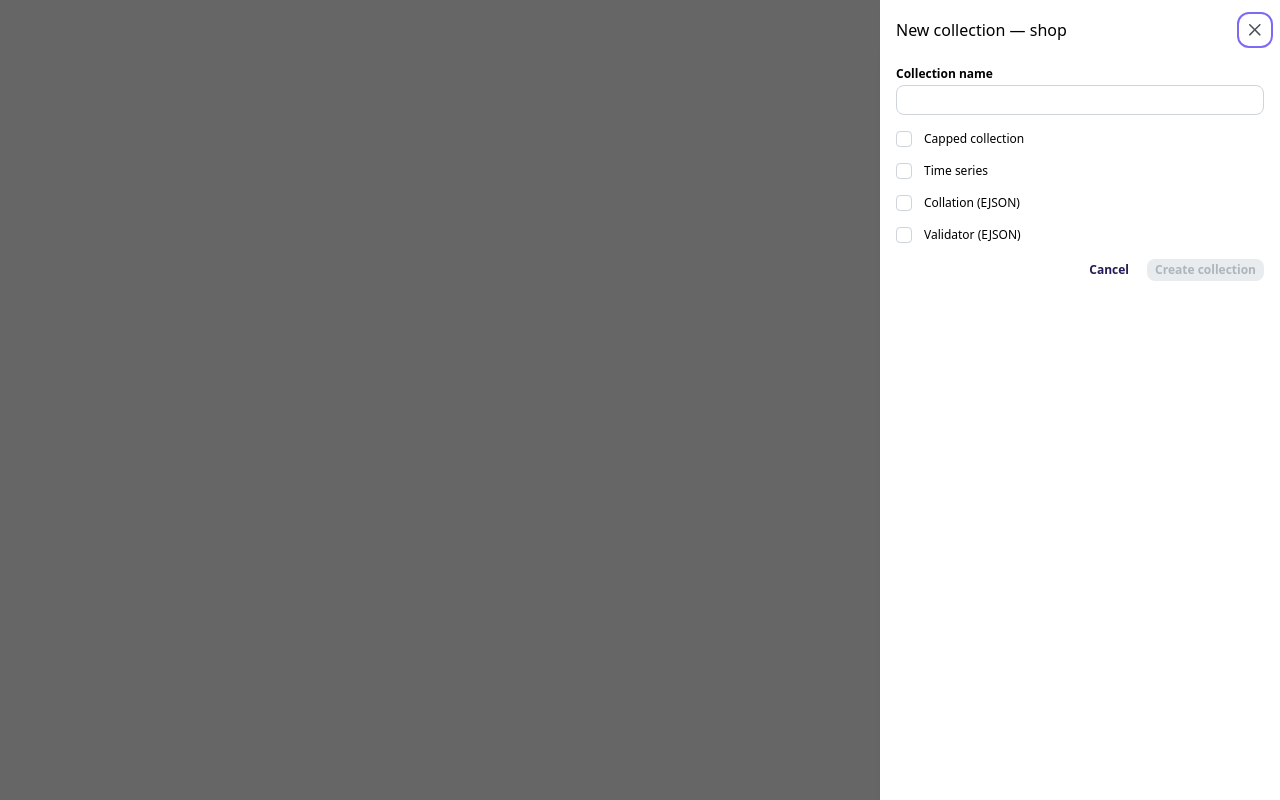
Test: CreateCollectionDrawer — fixed dbName (navigator mode) › shows an inline error on API failure and keeps the drawer open
Type "orders" into the field labelled "Collection name" at (1080, 100), box [896,85,1264,115]
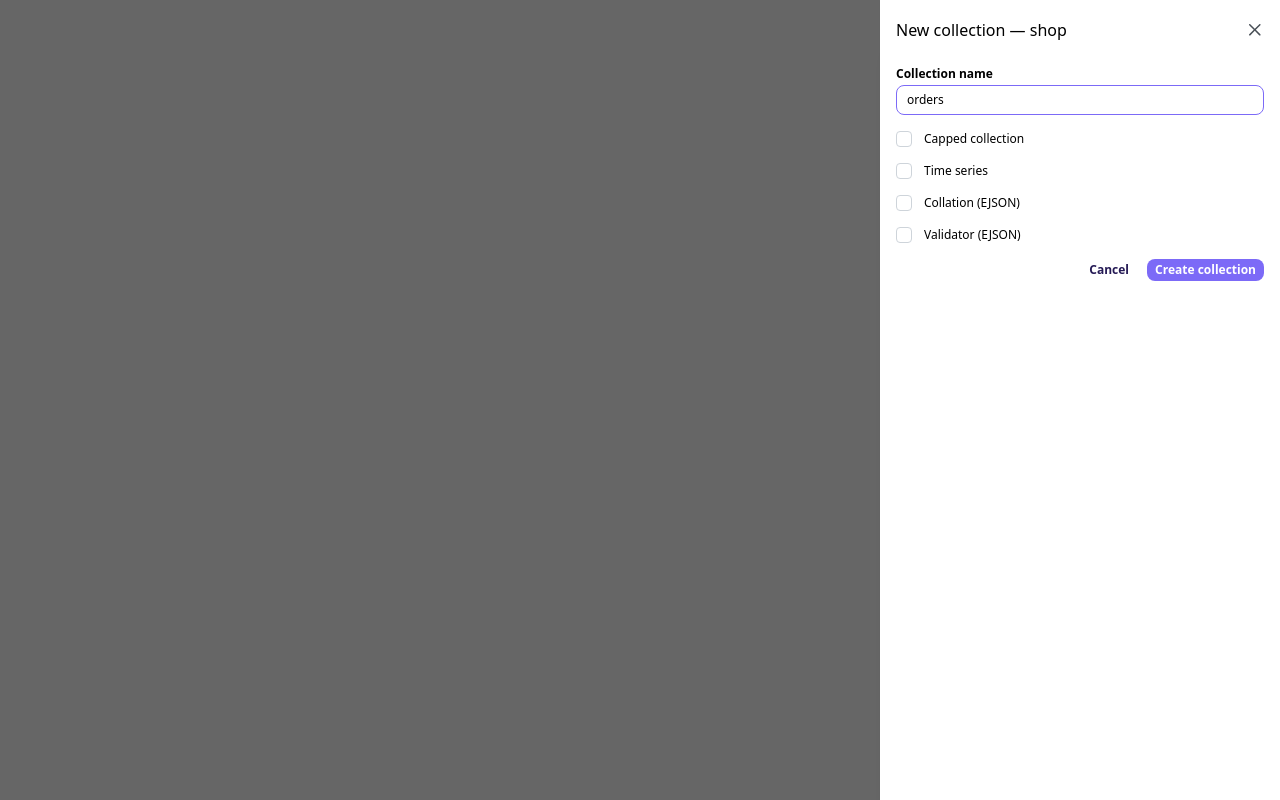
Click the button "Create collection" at (1206, 270), box [1147,259,1264,281]
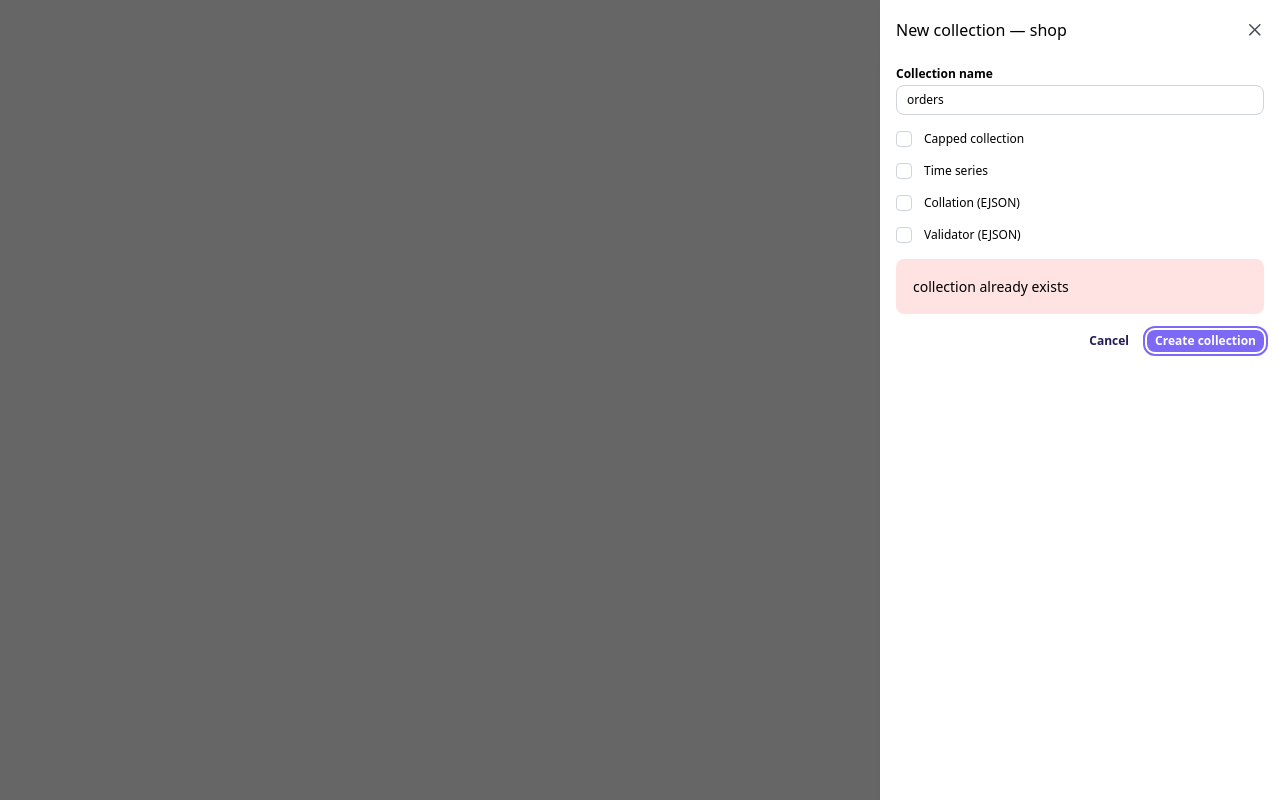
Check: the message shows "already exists", box [913,277,1069,296]
